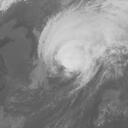cyclone: (37, 9, 108, 85)
